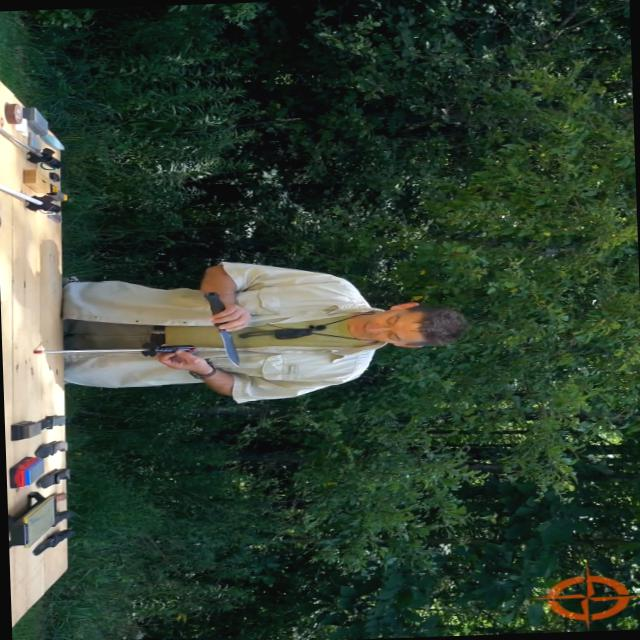knife: (198, 288, 245, 370)
